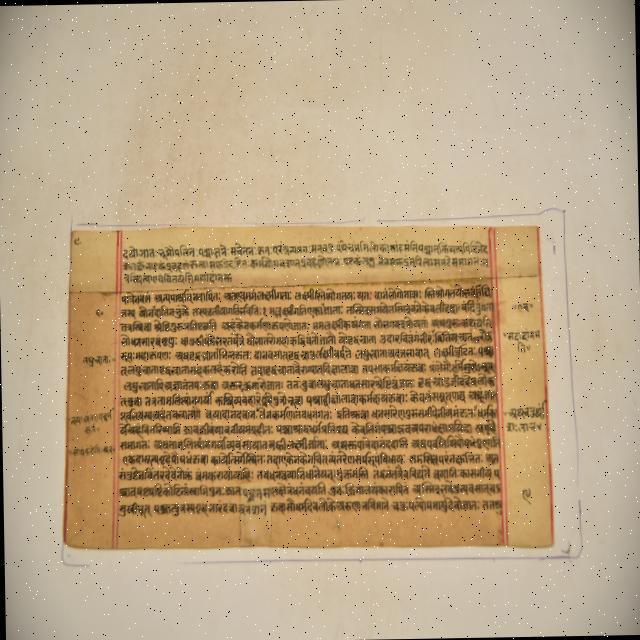text_paragraph: (64, 225, 553, 547)
